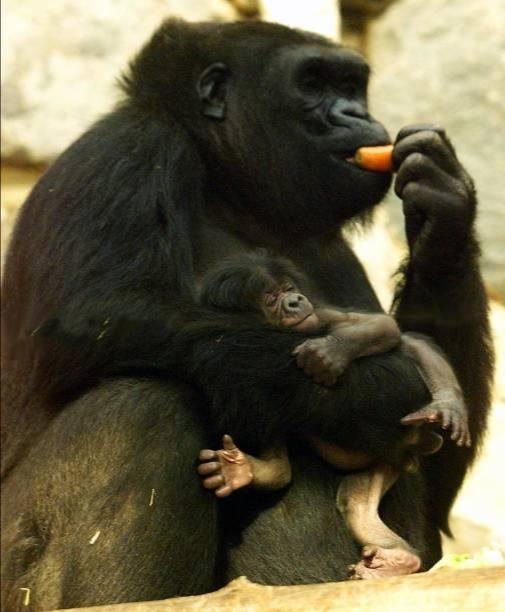gorille_Autres: (1, 11, 500, 612)
